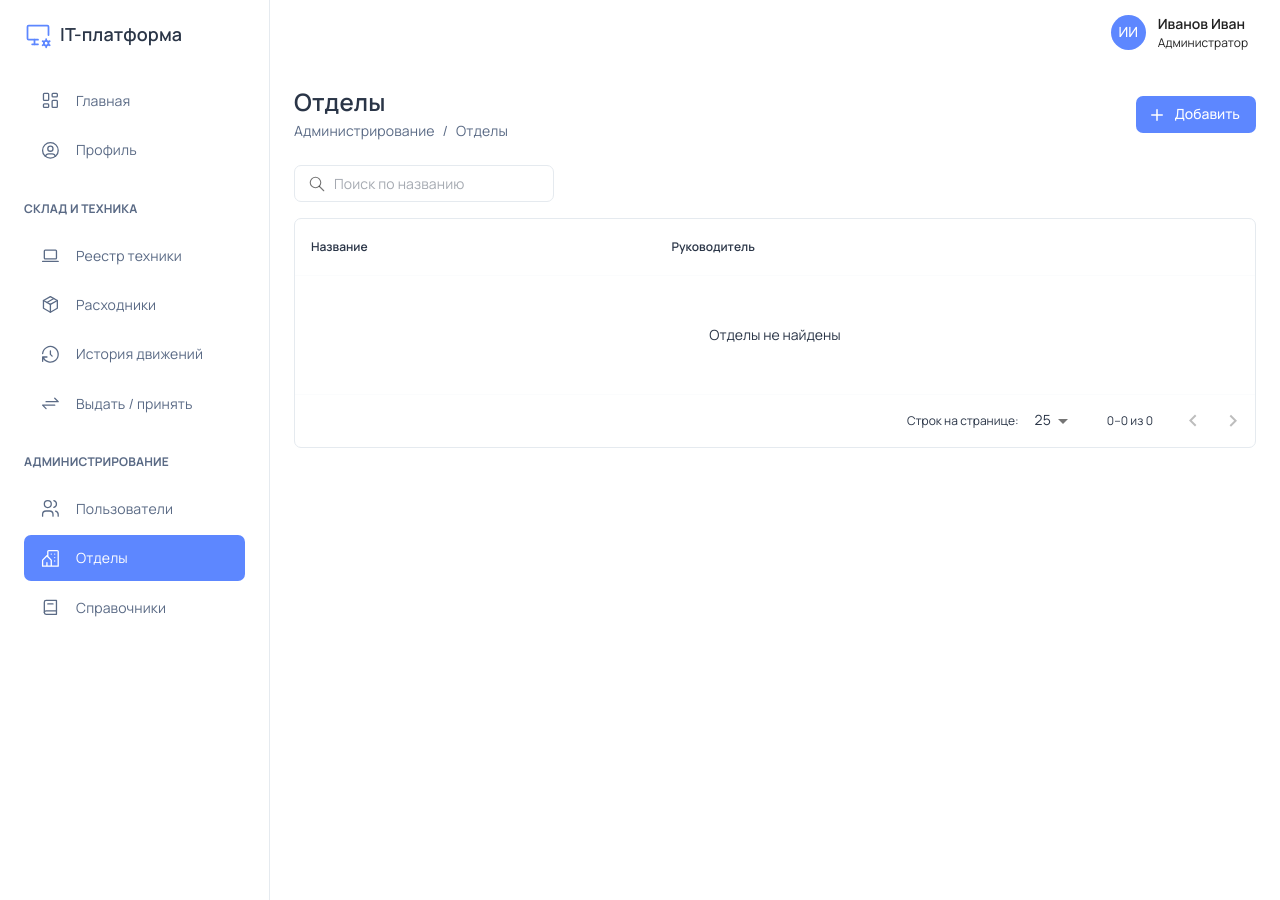
Test: создание отдела с руководителем; дубль названия — ошибка под полем
Click the button "Добавить": (1196, 115) [1136,96,1256,133]
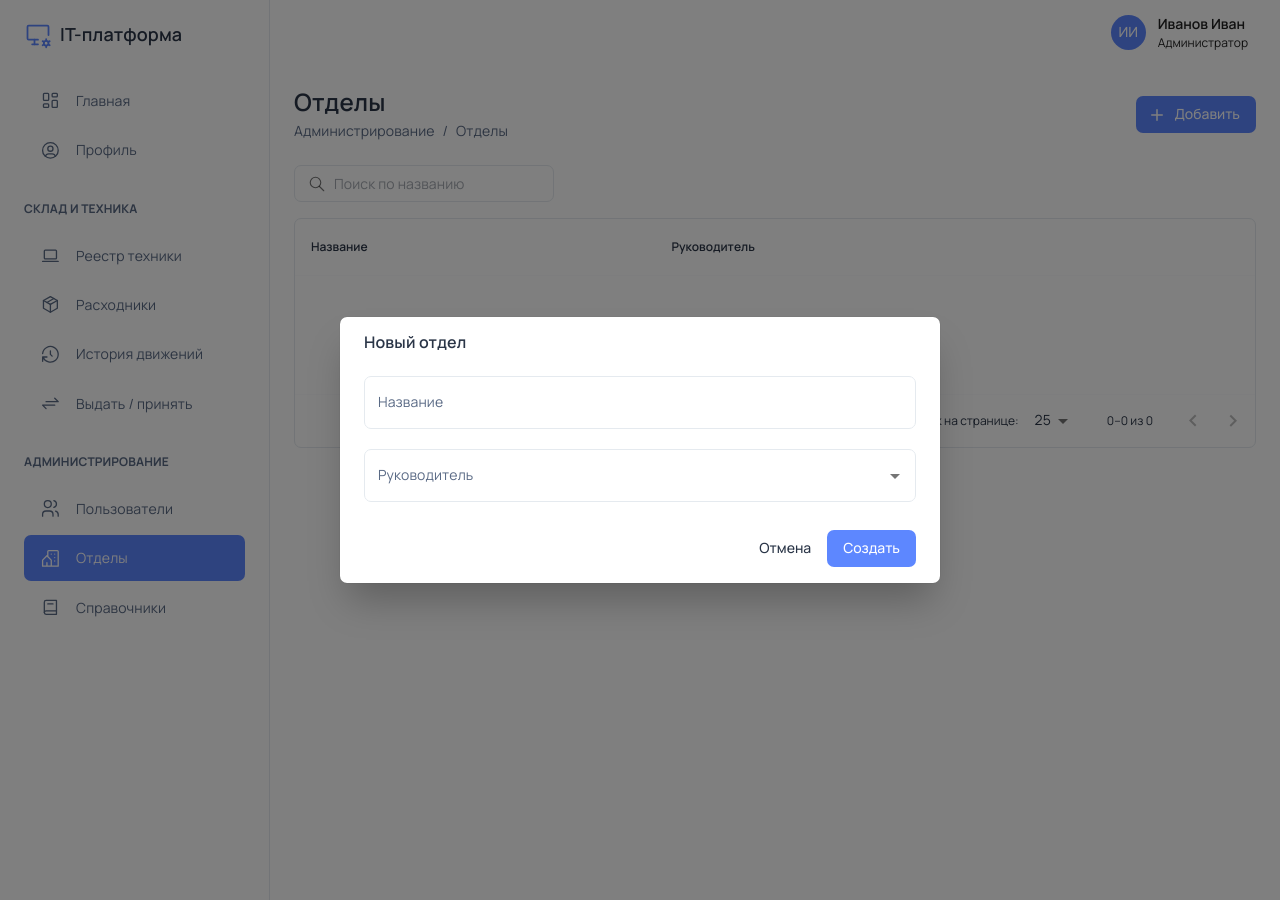
In the field labelled "Название": (640, 403) [364,376,916,429], type "Бухгалтерия"
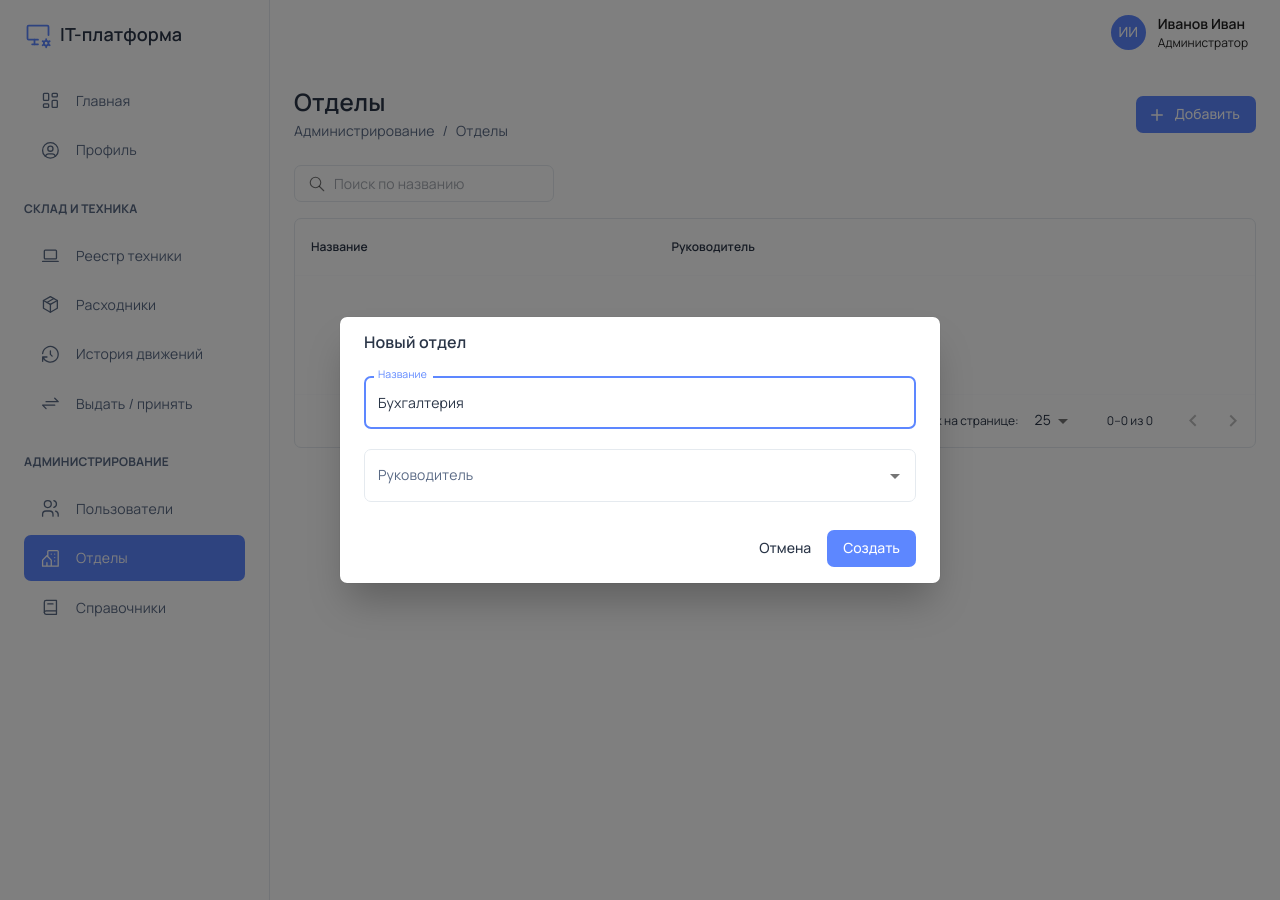
Click the dropdown labelled "Руководитель": (625, 476) [373,458,877,493]
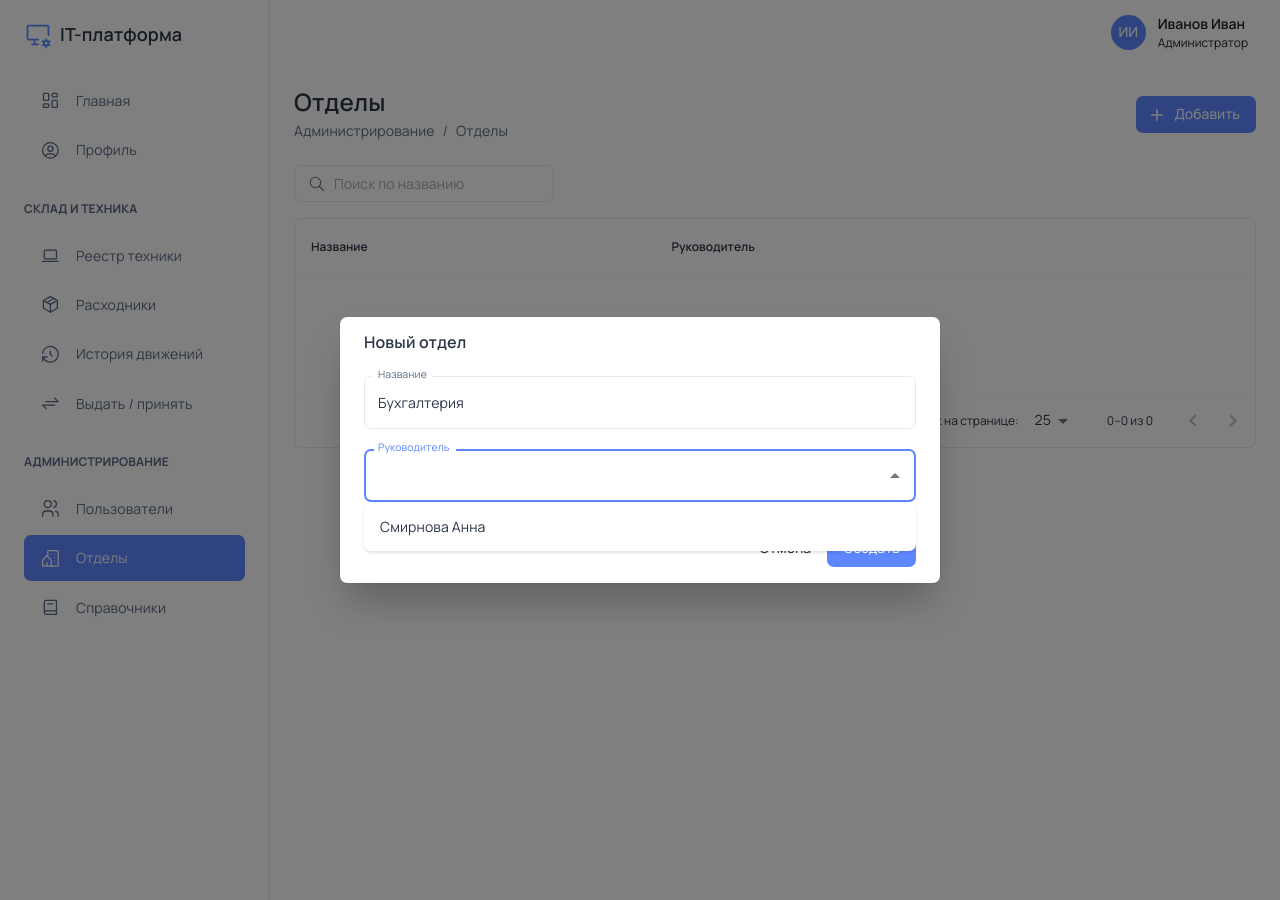
Result: the option "Смирнова Анна" is shown
Click the option "Смирнова Анна": (433, 526) [380,517,486,536]
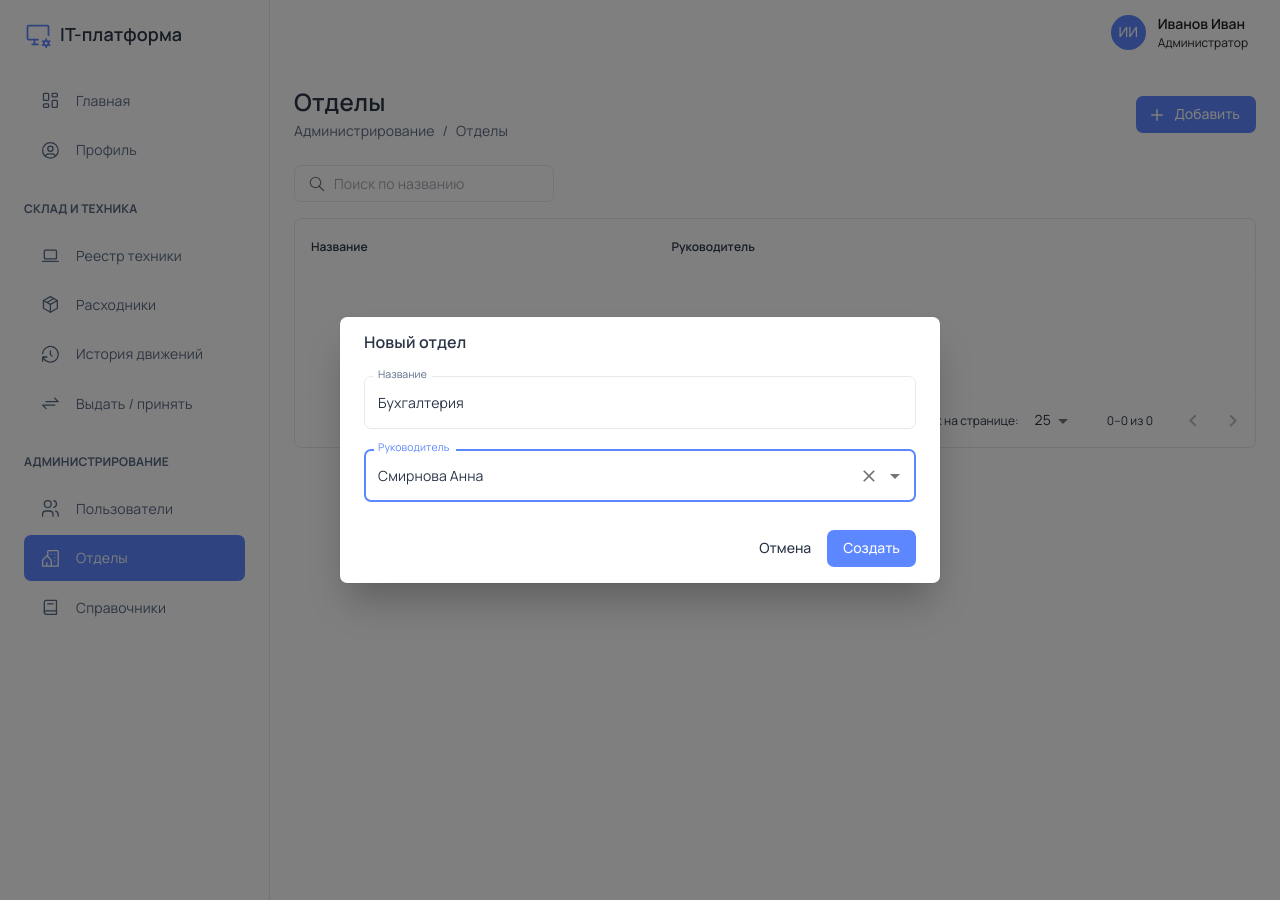
Click the button "Создать": (872, 549) [827,530,916,567]
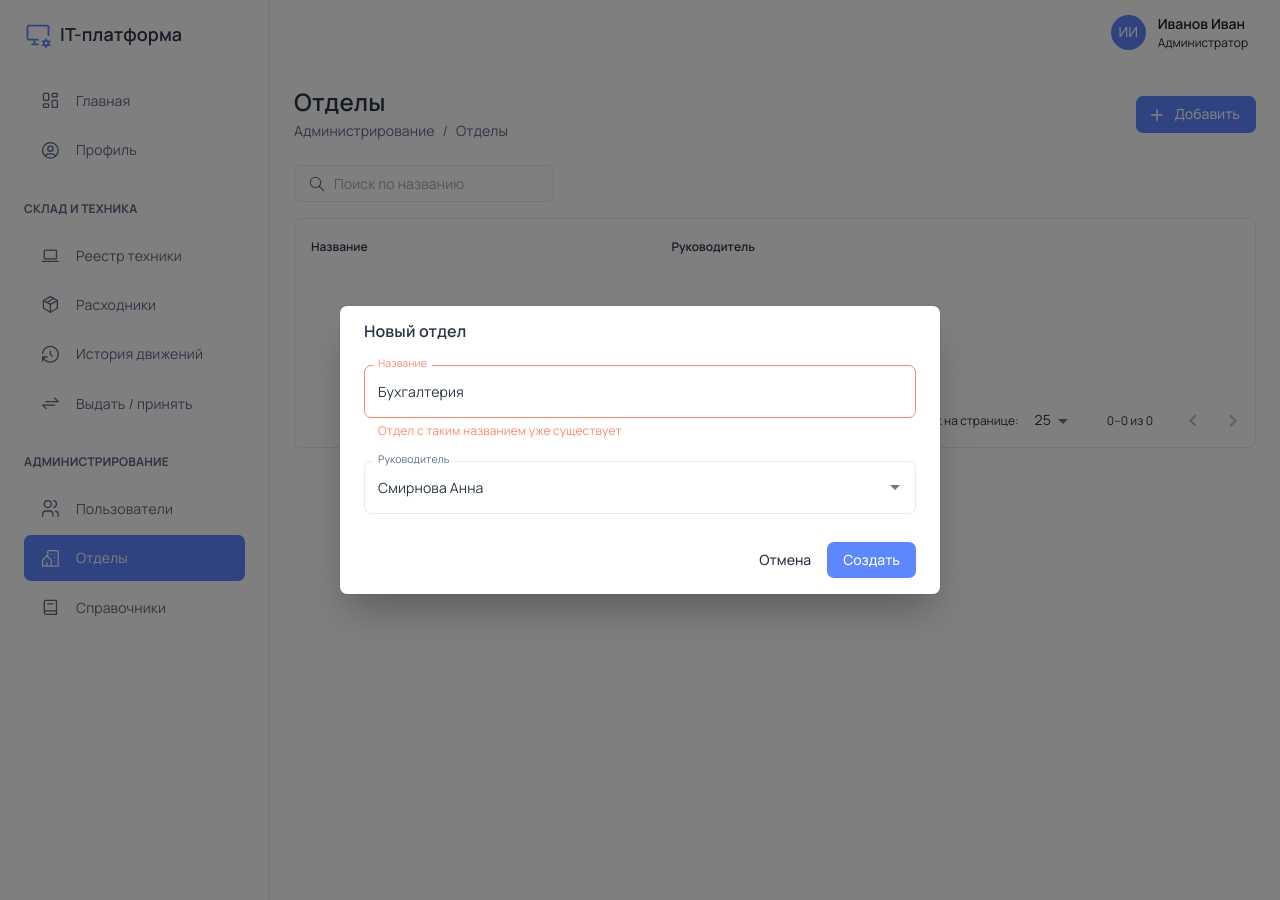
Result: the text "Отдел с таким названием уже существует" is shown at [378,422,622,439]
Click the button "Создать": (872, 560) [827,542,916,578]
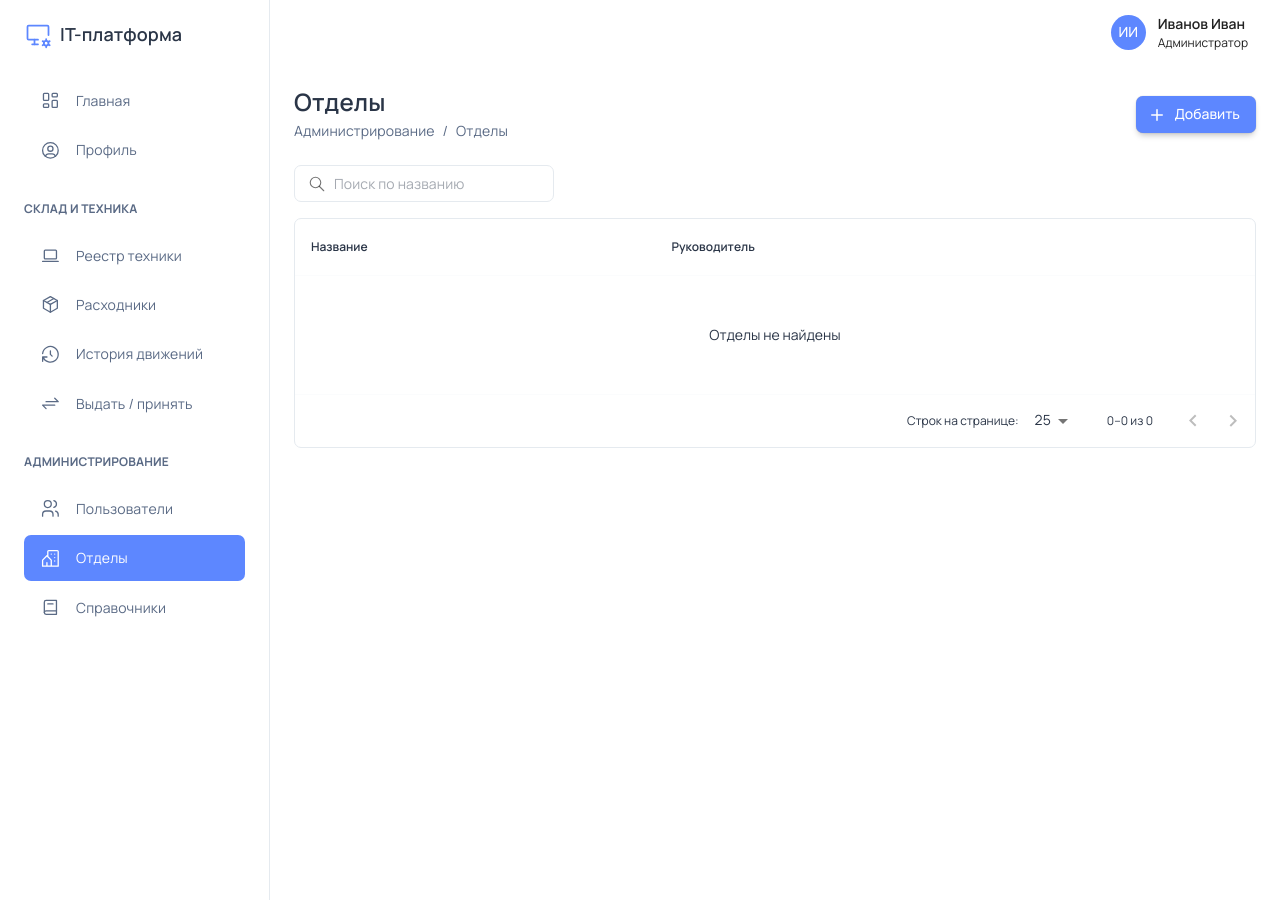
Result: the dialog is gone
